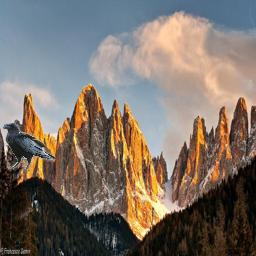Crow: (2, 123, 56, 171)
